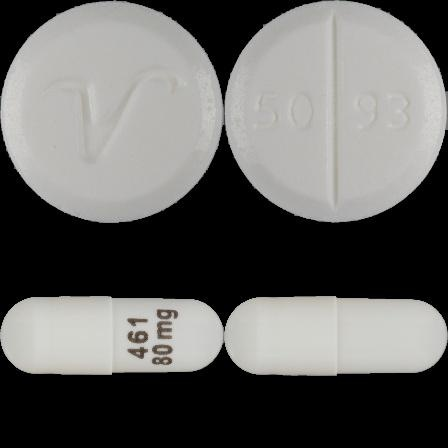54868-5230: (0, 0, 224, 224)
